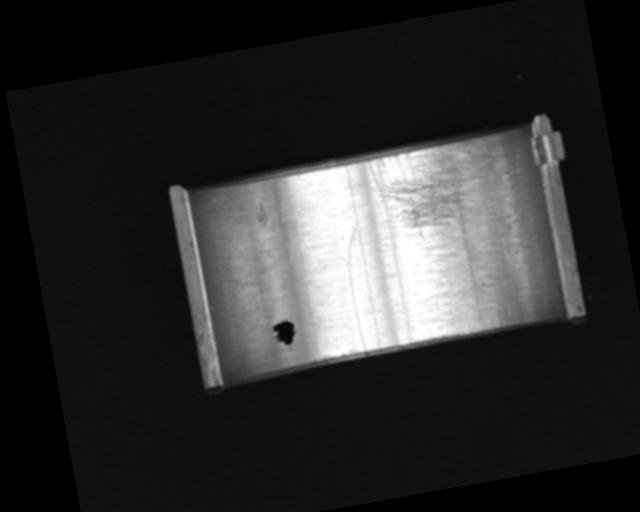blot: (270, 317, 299, 354)
bruise: (252, 200, 271, 228)
nick: (339, 225, 379, 354)
scratch: (364, 134, 496, 246)
